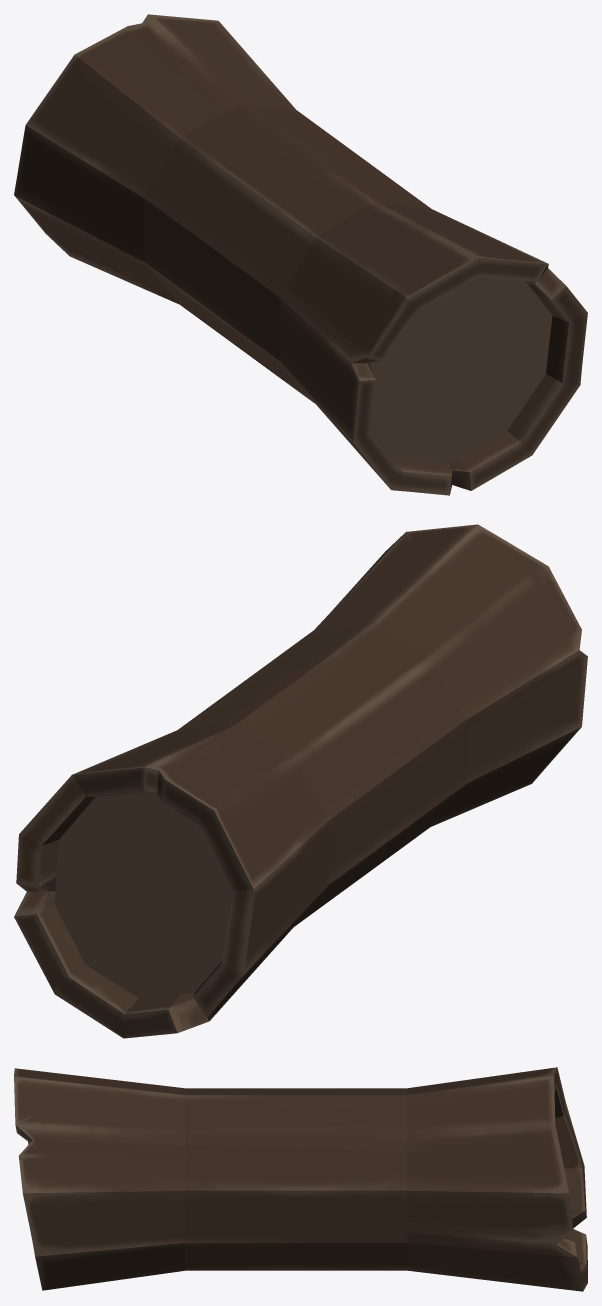
The model's file is DarkerLog.fbx.
The picture shows the model from 3 angles, top to bottom: view 1: azimuth 30°, elevation 25°; view 2: azimuth 150°, elevation 25°; view 3: azimuth 270°, elevation 25°; orthographic projection. The views are drawn at different scales.
Visible parts, largest first — view 1: Cylinder; view 2: Cylinder; view 3: Cylinder.
Boxes of the visible parts, <box> form: Cylinder: <box>14,14,587,495</box>; Cylinder: <box>14,524,587,1038</box>; Cylinder: <box>14,1067,587,1291</box>.
Bounding box in the file's own units: 38.76 × 40.76 × 102.
